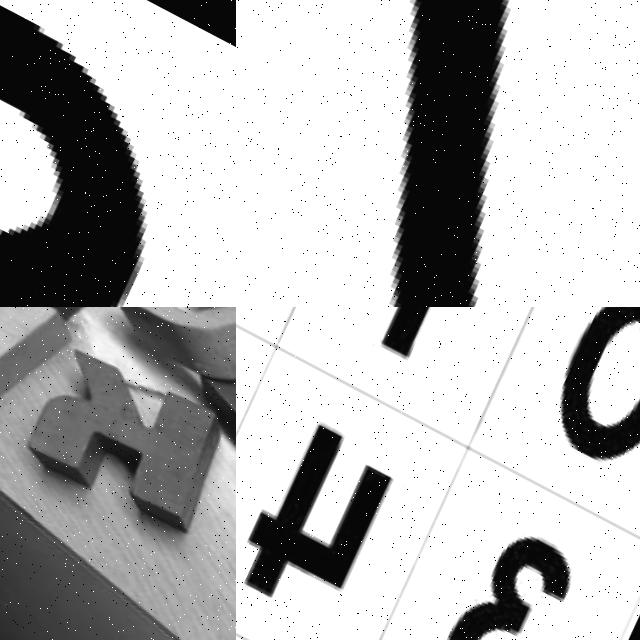0: (512, 307, 640, 482)
1: (357, 307, 494, 359)
3: (398, 510, 597, 640)
4: (236, 405, 411, 630)
C: (109, 307, 236, 419)
E: (175, 315, 236, 521)
F: (0, 307, 78, 419)
J: (236, 0, 640, 307)
K: (0, 336, 209, 526)
S: (0, 0, 236, 307)
Y: (175, 435, 236, 626)
